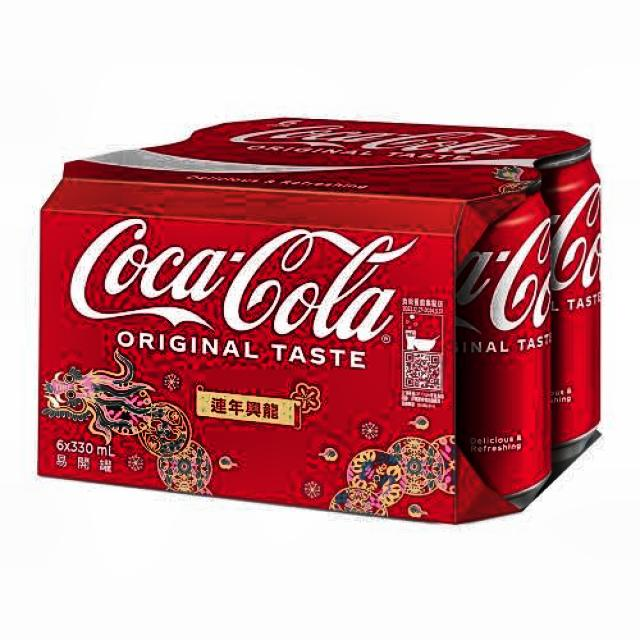can: (442, 175, 560, 510), (520, 135, 605, 473)
